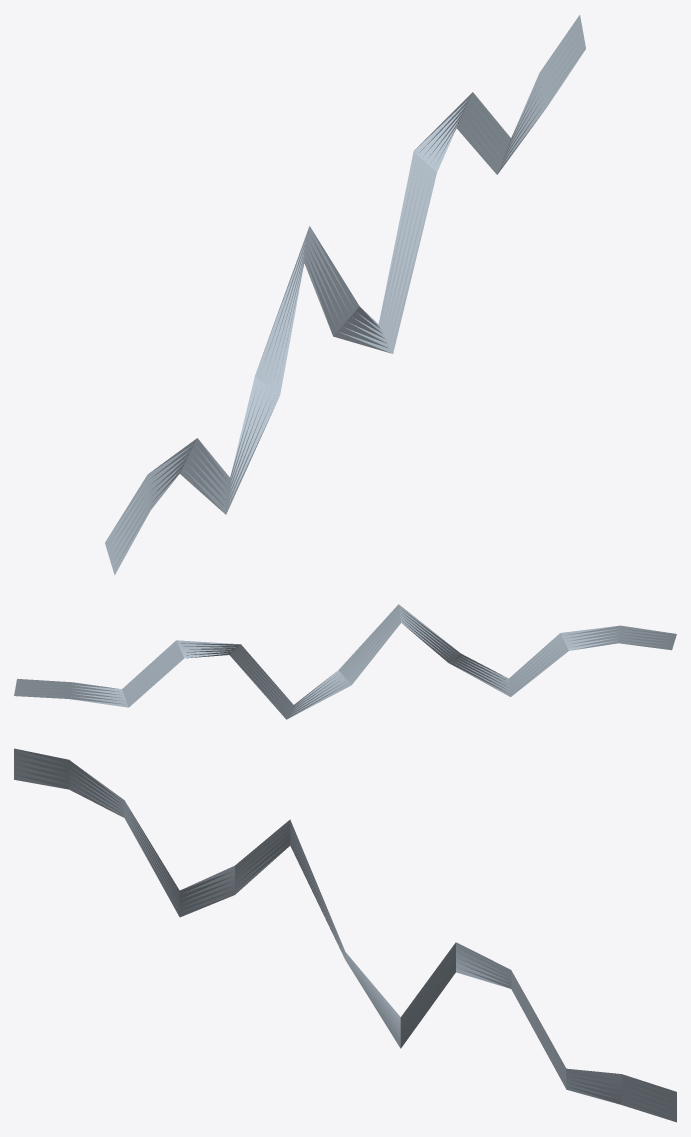
The model's file is 2065_LightningCage_State_CageArc_2_0.fbx.
The picture shows the model from 3 angles, top to bottom: view 1: azimuth 30°, elevation 25°; view 2: azimuth 150°, elevation 25°; view 3: azimuth 270°, elevation 25°; orthographic projection. The views are drawn at different scales.
Parts seen in each view (by area): view 1: PART_CageArc_2_0; view 2: PART_CageArc_2_0; view 3: PART_CageArc_2_0.
Part boxes in pixels (x1,y1,x2,y2): PART_CageArc_2_0: [105, 15, 585, 574]; PART_CageArc_2_0: [14, 604, 676, 719]; PART_CageArc_2_0: [14, 748, 676, 1122].
Bounding box in the file's own units: 62.05 × 14.27 × 50.23.
